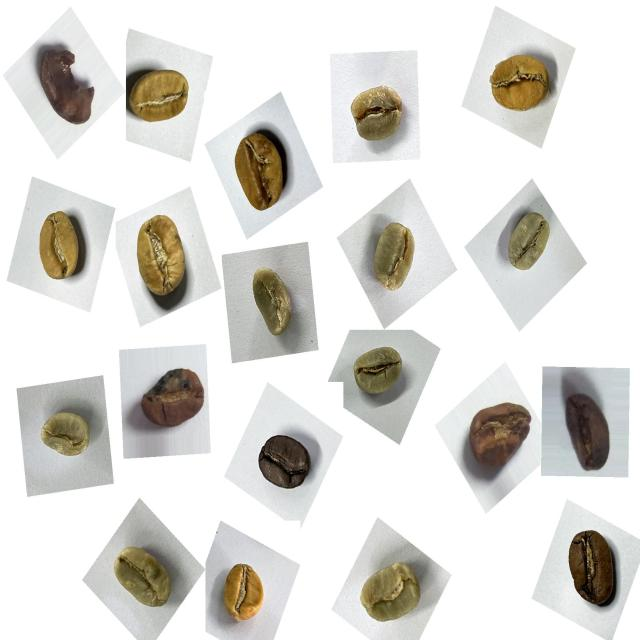bad: (27, 36, 100, 135), (132, 356, 212, 446), (459, 390, 537, 482), (552, 378, 619, 481)
dark: (251, 424, 321, 505)
green: (351, 550, 432, 639), (105, 534, 181, 622), (240, 256, 308, 348), (340, 73, 414, 157), (361, 214, 427, 303), (494, 204, 560, 288), (31, 398, 100, 474), (346, 334, 414, 409)
light: (122, 207, 198, 313), (224, 118, 299, 220), (478, 38, 558, 126), (120, 52, 200, 136), (27, 199, 95, 292), (214, 552, 276, 635)
medium: (556, 522, 629, 616)
